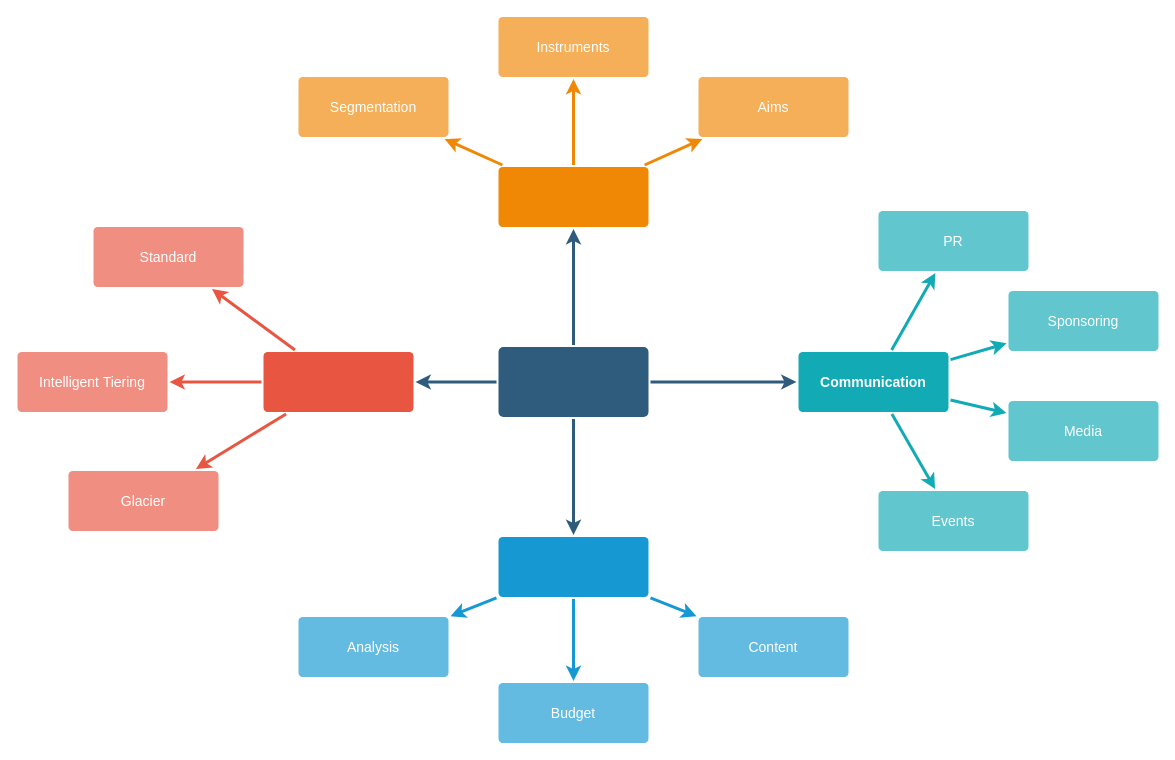
Image size: 1175x760. Some labels were removed from this diagram. Here are the shapes that lost their labels. From the top down, the centre of each, then its label:
[573,196]: Marketing
[338,382]: Storage classes
[573,381]: S3
[573,566]: Organization
